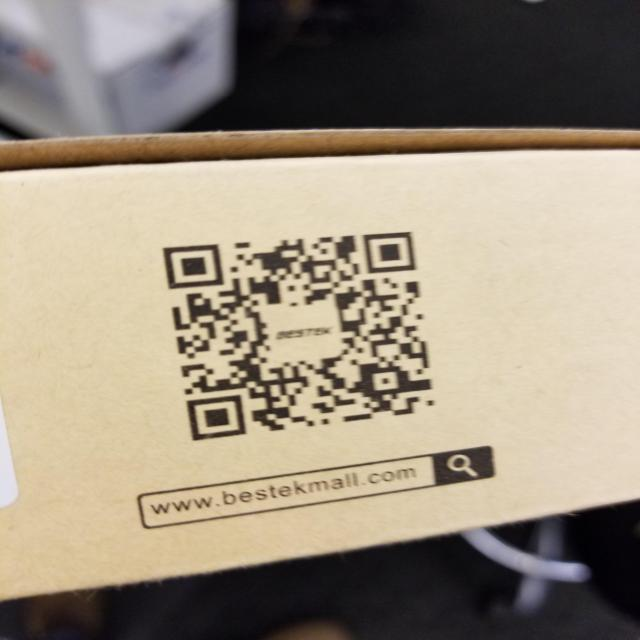QRCode: (140, 217, 450, 448)
